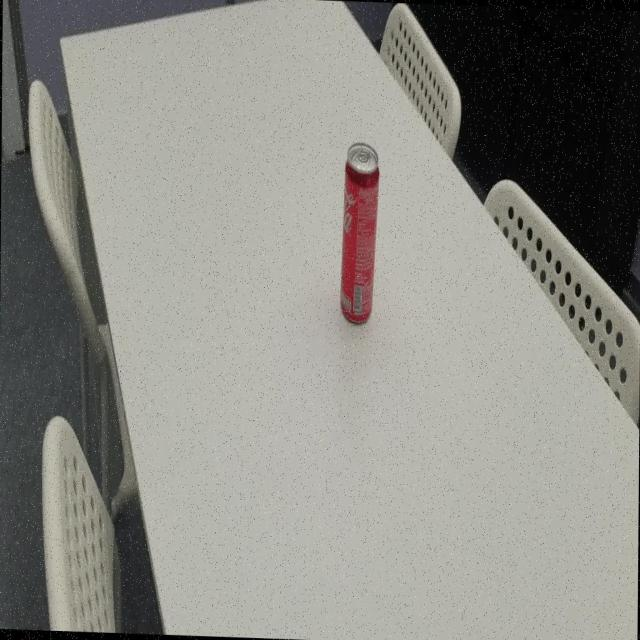coca-cola: (338, 139, 382, 331)
